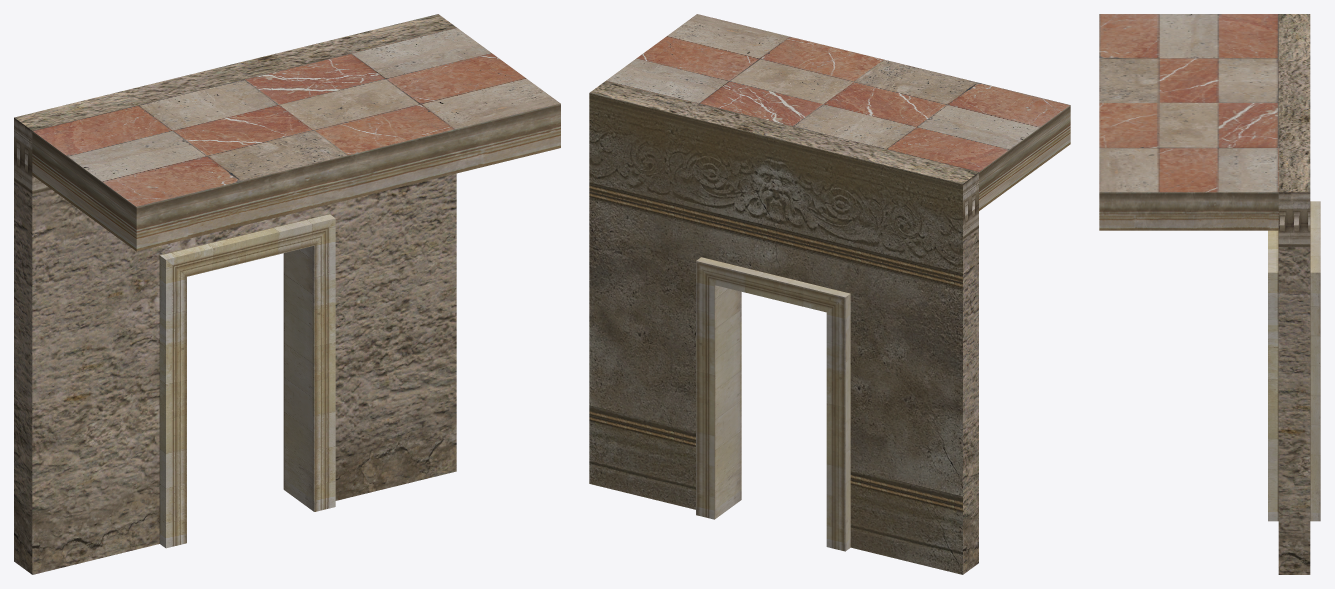
The model's file is SH3D_Sparta_BalcWall3.obj.
3 renders of one model, left to right at view 1: azimuth 30°, elevation 25°; view 2: azimuth 150°, elevation 25°; view 3: azimuth 270°, elevation 25°, orthographic. The views are drawn at different scales.
Visible parts, largest first — view 1: Base_ExtWall_Sparta0, Base_Floor2_Sparta0, Base_Trim1_Sparta0, Base_StepsRail_Sparta0; view 2: Base_IntWall_Sparta0, Base_Floor2_Sparta0, Base_Trim1_Sparta0, Base_ExtWall_Sparta0, Base_StepsRail_Sparta0; view 3: Base_Floor2_Sparta0, Base_ExtWall_Sparta0, Base_StepsRail_Sparta0, Base_Trim1_Sparta0.
Part boxes in pixels (x1,y1,x2,y2): Base_ExtWall_Sparta0: (14, 14, 456, 574); Base_Floor2_Sparta0: (33, 27, 560, 206); Base_Trim1_Sparta0: (159, 214, 335, 548); Base_StepsRail_Sparta0: (32, 103, 560, 251); Base_IntWall_Sparta0: (589, 93, 962, 574); Base_Floor2_Sparta0: (606, 14, 1070, 171); Base_Trim1_Sparta0: (696, 257, 850, 551); Base_ExtWall_Sparta0: (589, 81, 978, 574); Base_StepsRail_Sparta0: (979, 105, 1070, 210); Base_Floor2_Sparta0: (1099, 14, 1278, 192); Base_ExtWall_Sparta0: (1278, 14, 1310, 574); Base_StepsRail_Sparta0: (1099, 192, 1278, 230); Base_Trim1_Sparta0: (1268, 201, 1320, 521).
Bounding box in the file's own units: 400 × 400 × 210.
Materials: 6 (6 with a texture image).
